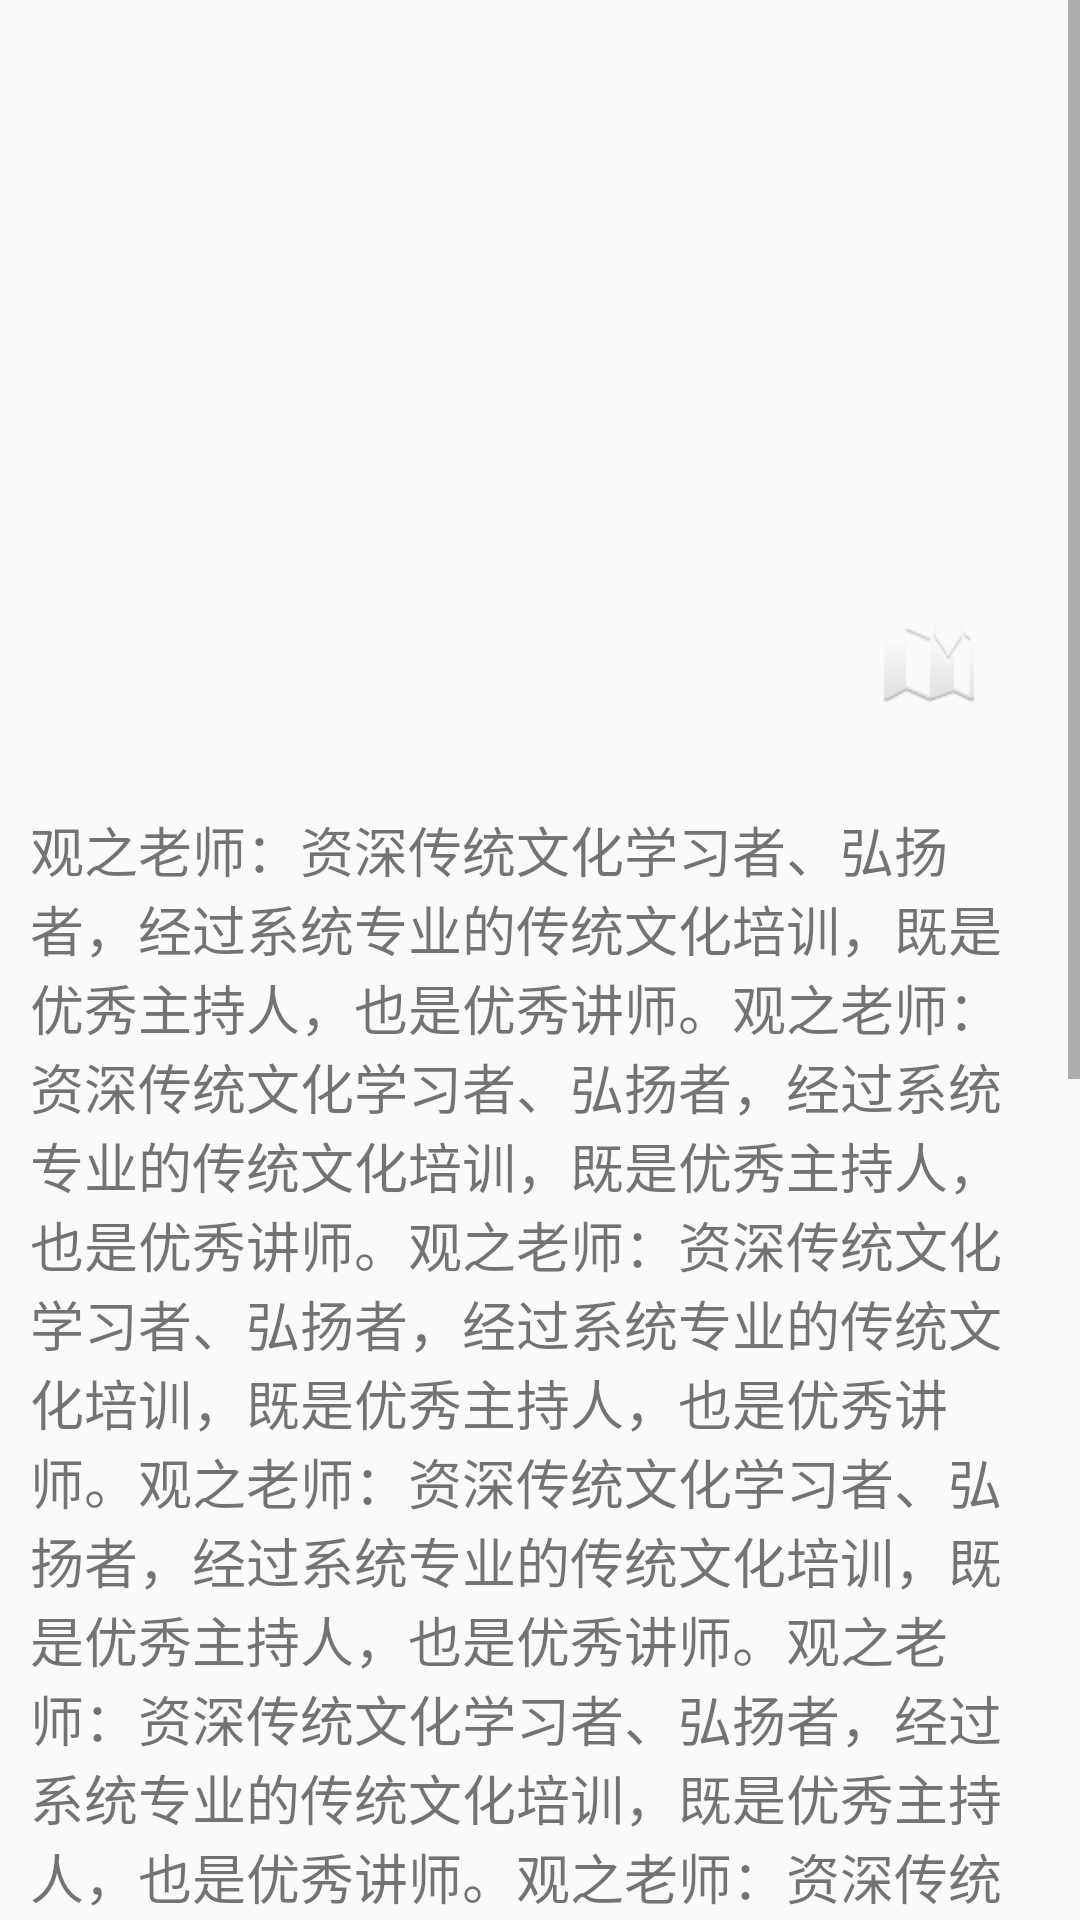

Point at icon controls on the screen. Image size 1080w x 1920h, points as (x=x, y=y).
map: (x=929, y=665)
